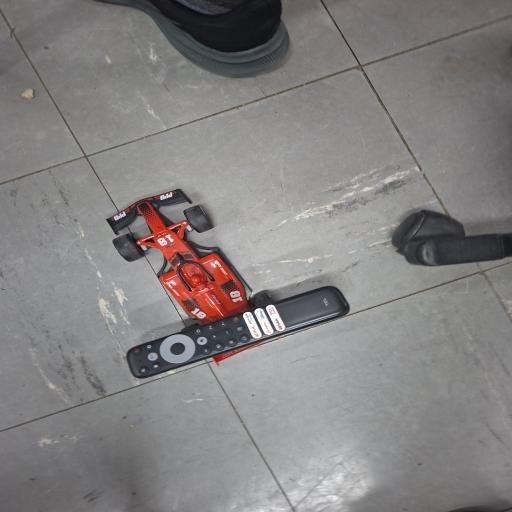carro: (98, 173, 362, 387)
